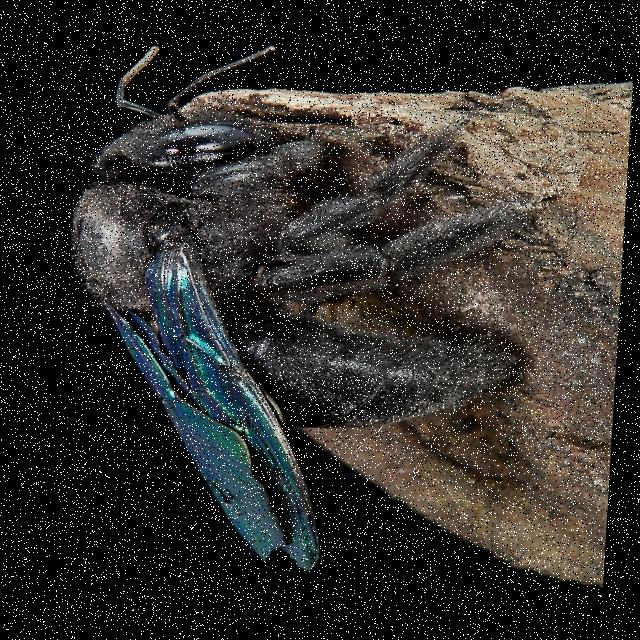Xylocopa: (56, 22, 552, 584)
